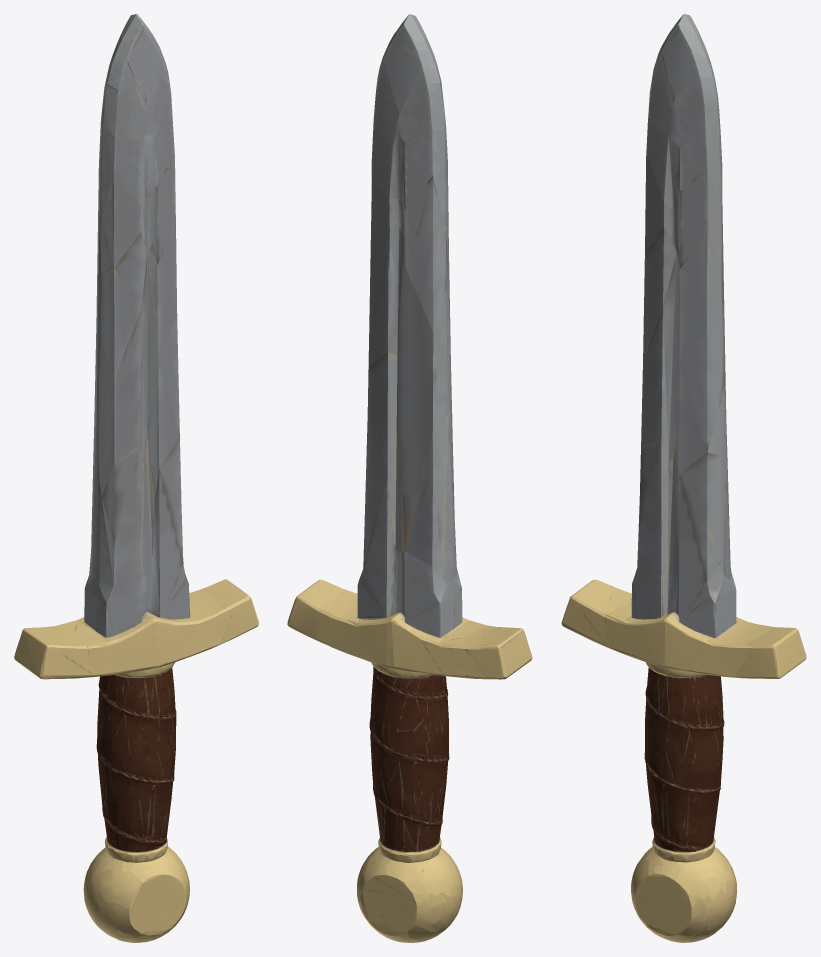
Rendered from sword.glb.
3 renders of one model, left to right at view 1: azimuth 30°, elevation 25°; view 2: azimuth 150°, elevation 25°; view 3: azimuth 330°, elevation 25°, orthographic.
Bounding box in the file's own units: 0.473 × 1.9 × 0.1608.
Materials: 1 (1 with a texture image).
